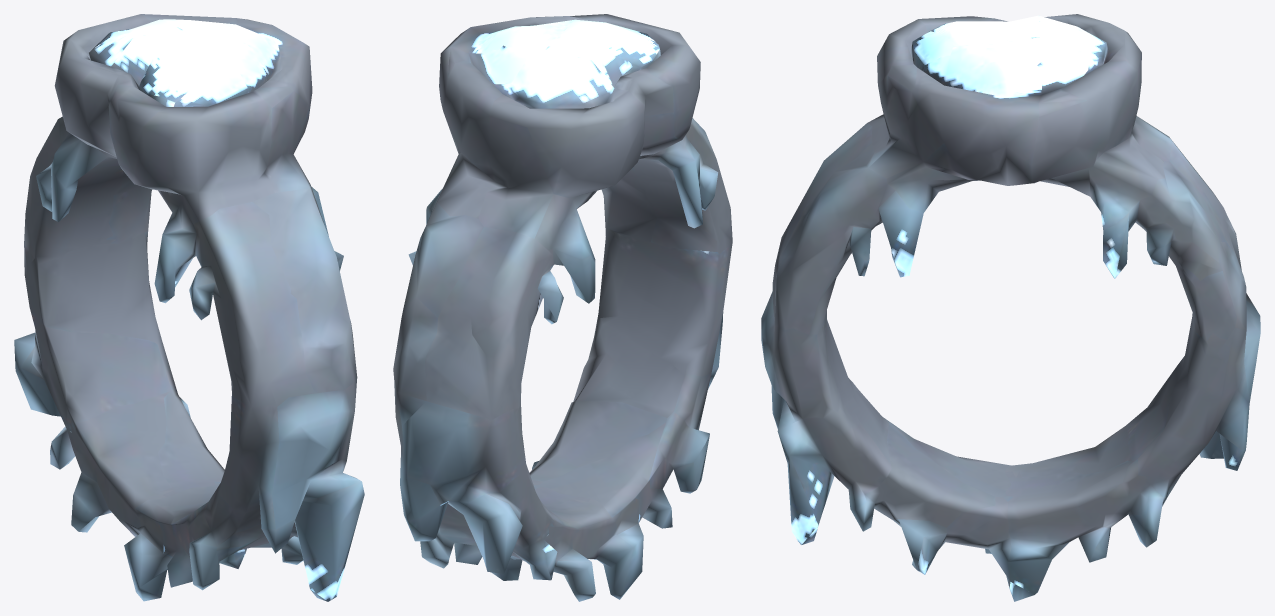
File: uq_ring_iceheart-DhUDioqP.glb
3 views of the same model, side by side, from view 1: azimuth 30°, elevation 25°; view 2: azimuth 150°, elevation 25°; view 3: azimuth 270°, elevation 25° (orthographic).
Parts seen in each view (by area): view 1: tripo_node_f131fcfe-40c2-4786-9626-48369104e1b4; view 2: tripo_node_f131fcfe-40c2-4786-9626-48369104e1b4; view 3: tripo_node_f131fcfe-40c2-4786-9626-48369104e1b4.
Part boxes in pixels (x1,y1,x2,y2): tripo_node_f131fcfe-40c2-4786-9626-48369104e1b4: (14, 14, 364, 601); tripo_node_f131fcfe-40c2-4786-9626-48369104e1b4: (393, 14, 732, 601); tripo_node_f131fcfe-40c2-4786-9626-48369104e1b4: (761, 14, 1260, 601).
Bounding box in the file's own units: 0.4111 × 1 × 0.8327.
1 material, 1 textured.
